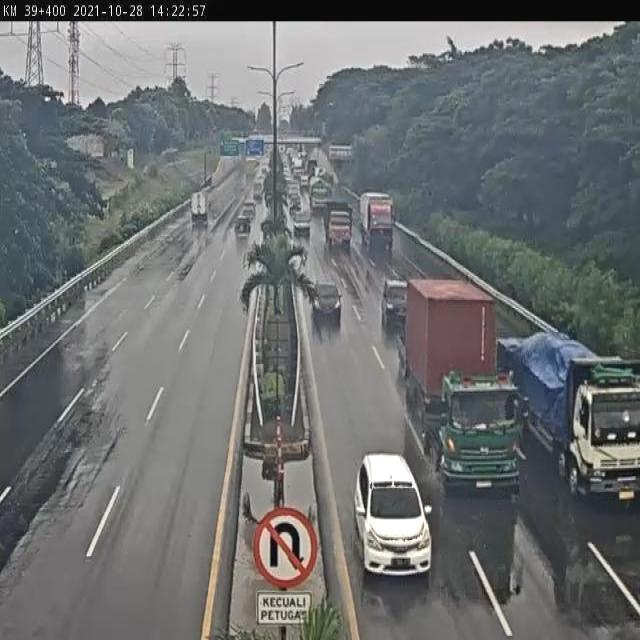Car: (353, 452, 436, 577), (311, 280, 343, 323), (380, 281, 408, 330), (293, 212, 312, 238), (233, 214, 252, 237), (242, 197, 258, 218)
Truck: (495, 324, 640, 507), (403, 282, 529, 492), (359, 193, 395, 249), (322, 202, 352, 245), (310, 177, 334, 211), (190, 190, 210, 224)
